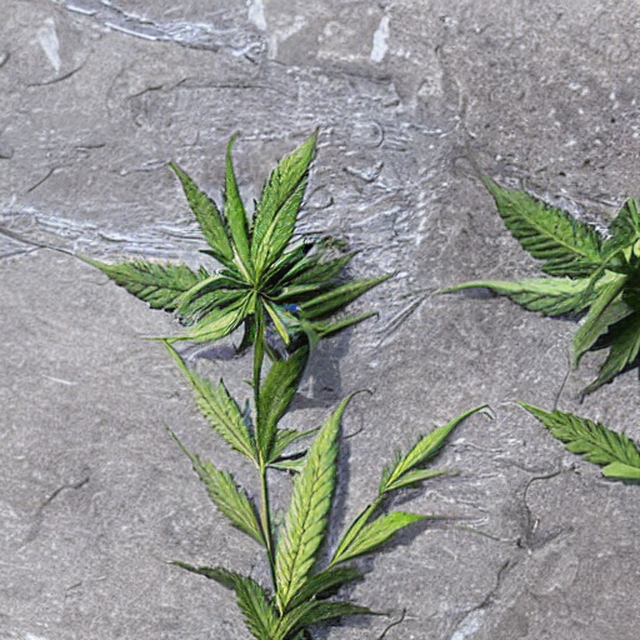Marijuana Plant: (0, 0, 632, 639)
